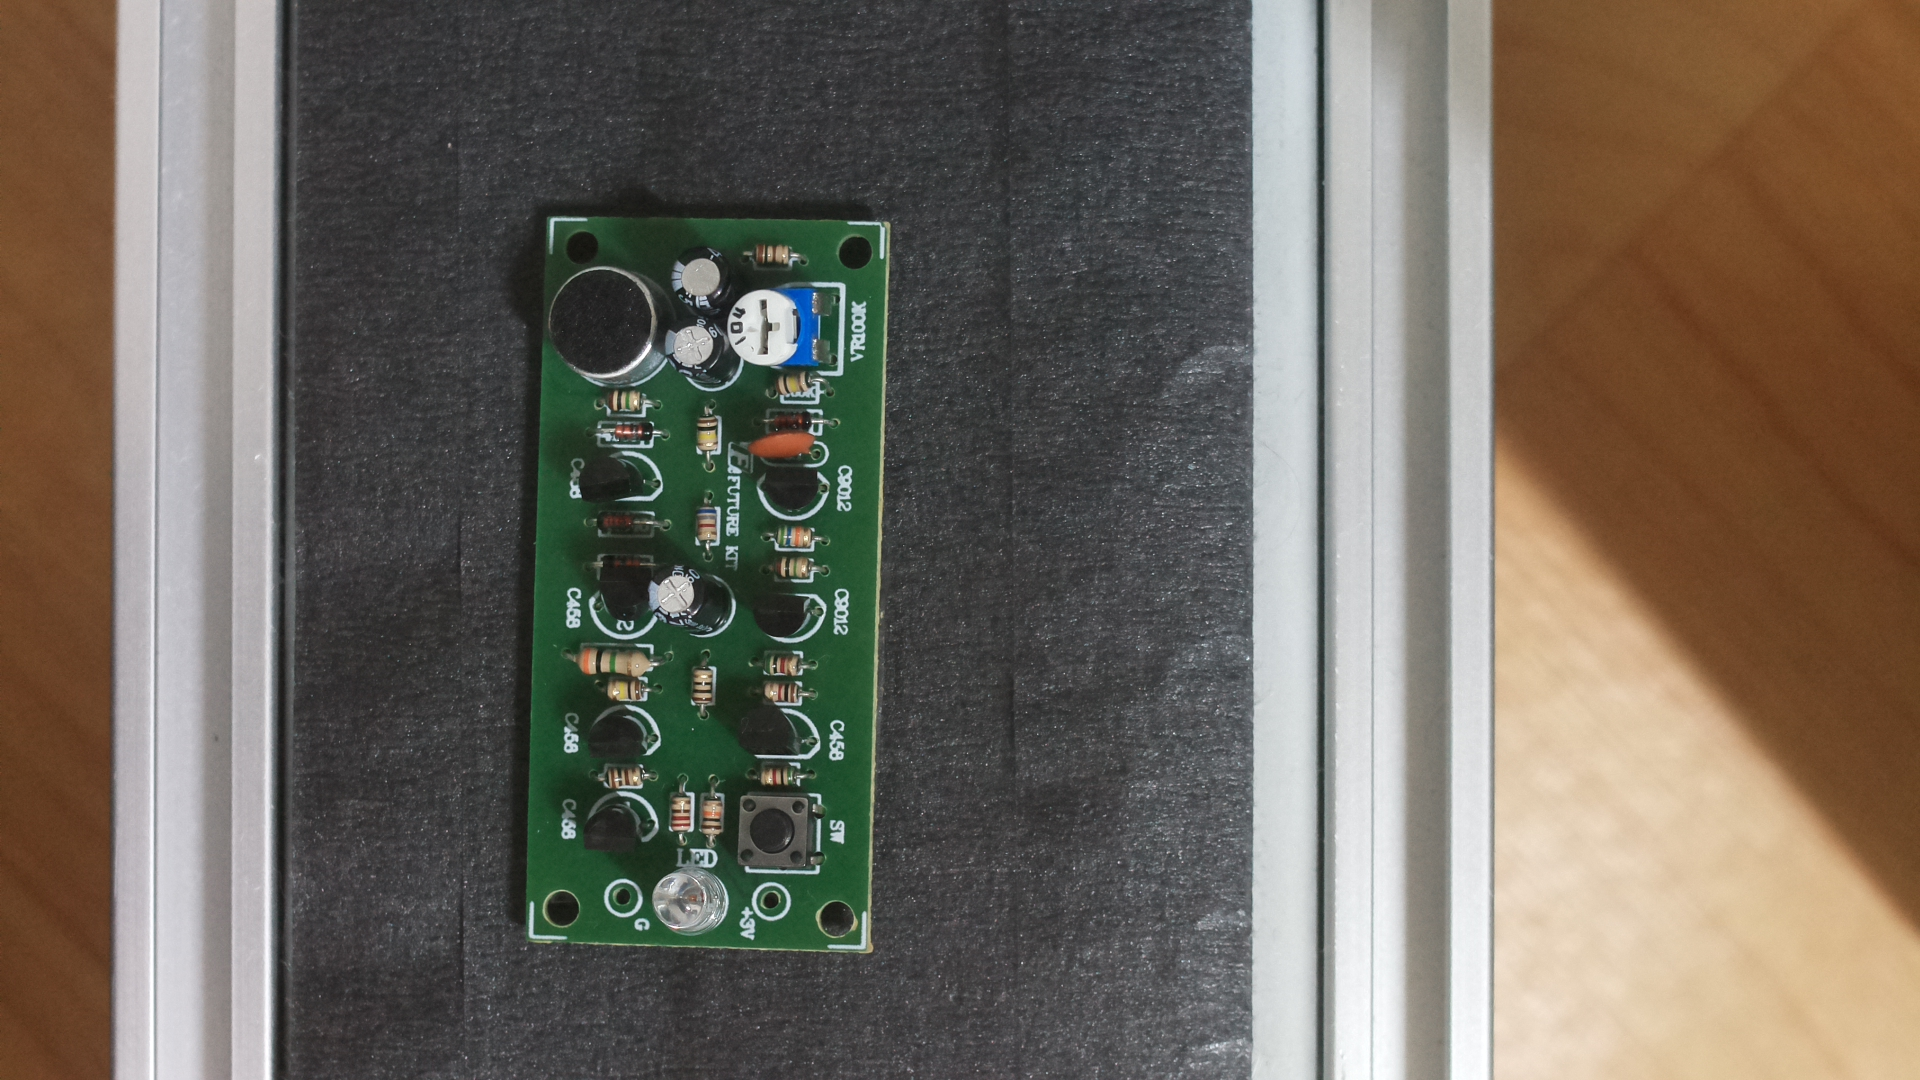A_Normal: (525, 190, 898, 968)
